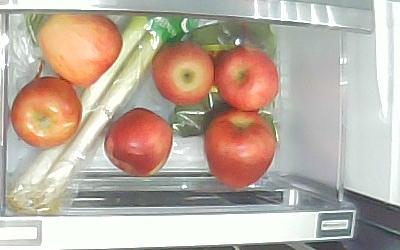apple: (38, 13, 123, 89), (205, 111, 276, 189), (11, 76, 82, 149), (103, 108, 175, 177), (151, 42, 214, 106), (215, 48, 278, 112)
